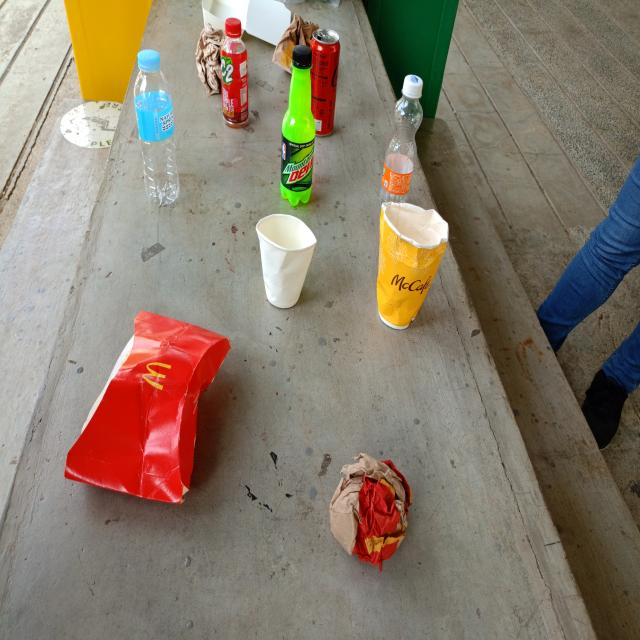Anorganik: (280, 41, 313, 208), (381, 74, 423, 202), (308, 21, 340, 138), (220, 14, 250, 131)
Organik: (61, 306, 233, 507), (328, 454, 412, 574), (375, 199, 448, 334), (251, 213, 317, 310), (271, 11, 319, 73), (194, 20, 224, 92)
